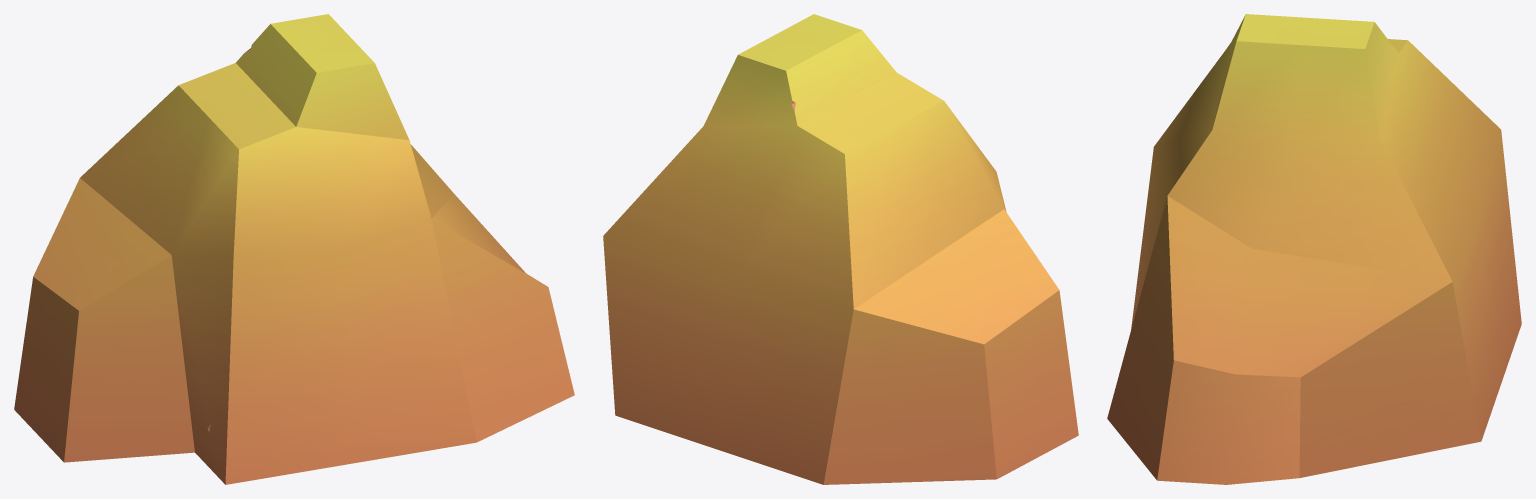
The model's file is yellow_rock_root.fbx.
The picture shows the model from 3 angles, left to right: view 1: azimuth 30°, elevation 25°; view 2: azimuth 150°, elevation 25°; view 3: azimuth 270°, elevation 25°; orthographic projection. The views are drawn at different scales.
Parts seen in each view (by area): view 1: rock1_sh_20, rock1_sh_6, rock1_sh_4, rock1_sh_18, rock1_sh_42, rock1_sh_12, rock1_sh_19, rock1_sh_16, rock1_sh_43, rock1_sh_17, rock1_sh_15, rock1_sh_27 (+11 smaller); view 2: rock1_sh_17, rock1_sh_13, rock1_sh_28, rock1_sh_16, rock1_sh_9, rock1_sh_14, rock1_sh_11, rock1_sh_30, rock1_sh_19, rock1_sh_7, rock1_sh_24, rock1_sh_32 (+9 smaller); view 3: rock1_sh_35, rock1_sh_21, rock1_sh_12, rock1_sh_23, rock1_sh_4, rock1_sh_7, rock1_sh_3, rock1_sh_28, rock1_sh_29, rock1_sh_22, rock1_sh_5, rock1_sh_19 (+11 smaller).
Part boxes in pixels (box(x1,y1,x2,y2)): rock1_sh_20: box(202, 244, 392, 474); rock1_sh_6: box(256, 217, 423, 436); rock1_sh_4: box(251, 77, 420, 247); rock1_sh_18: box(87, 241, 259, 444); rock1_sh_42: box(387, 333, 573, 457); rock1_sh_12: box(398, 153, 517, 348); rock1_sh_19: box(241, 28, 380, 165); rock1_sh_16: box(151, 67, 252, 242); rock1_sh_43: box(43, 307, 156, 462); rock1_sh_17: box(43, 143, 151, 259); rock1_sh_15: box(147, 168, 268, 285); rock1_sh_27: box(420, 269, 531, 375); rock1_sh_17: box(803, 219, 993, 392); rock1_sh_13: box(718, 328, 877, 484); rock1_sh_28: box(709, 101, 820, 328); rock1_sh_16: box(810, 100, 982, 230); rock1_sh_9: box(872, 380, 1029, 483); rock1_sh_14: box(614, 288, 759, 402); rock1_sh_11: box(605, 188, 742, 314); rock1_sh_30: box(781, 163, 868, 325); rock1_sh_19: box(774, 14, 941, 110); rock1_sh_7: box(706, 36, 802, 144); rock1_sh_24: box(612, 365, 722, 449); rock1_sh_32: box(957, 256, 1031, 380); rock1_sh_35: box(1159, 314, 1328, 482); rock1_sh_21: box(1312, 296, 1473, 472); rock1_sh_12: box(1138, 162, 1269, 322); rock1_sh_23: box(1264, 173, 1404, 309); rock1_sh_4: box(1158, 50, 1290, 194); rock1_sh_7: box(1286, 21, 1398, 132); rock1_sh_3: box(1314, 219, 1455, 355); rock1_sh_28: box(1389, 43, 1489, 232); rock1_sh_29: box(1317, 129, 1428, 221); rock1_sh_22: box(1156, 387, 1254, 484); rock1_sh_5: box(1268, 295, 1372, 371); rock1_sh_19: box(1226, 14, 1362, 77).
Size of the model in its own units: 92.41 by 65.89 by 69.28.
